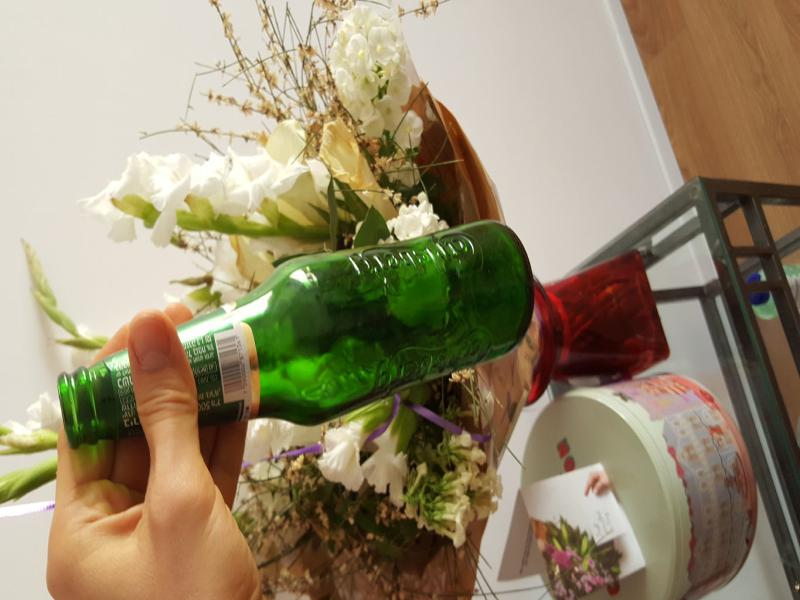Beer: (57, 220, 533, 426)
